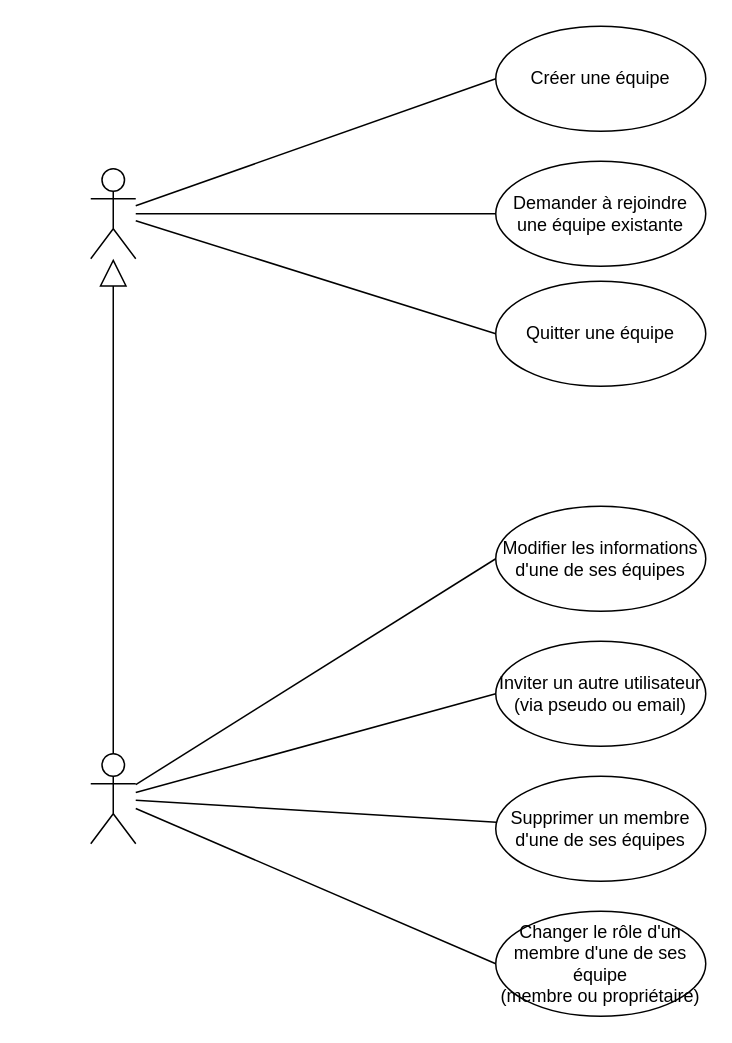
Some shapes in this 732 by 1043 pixel diagram are drawn without their labels. Each missing label, with the centre of its shape:
"Utilisateur" belongs at [112,213].
"Utilisateur propriétaire" belongs at [112,798].
